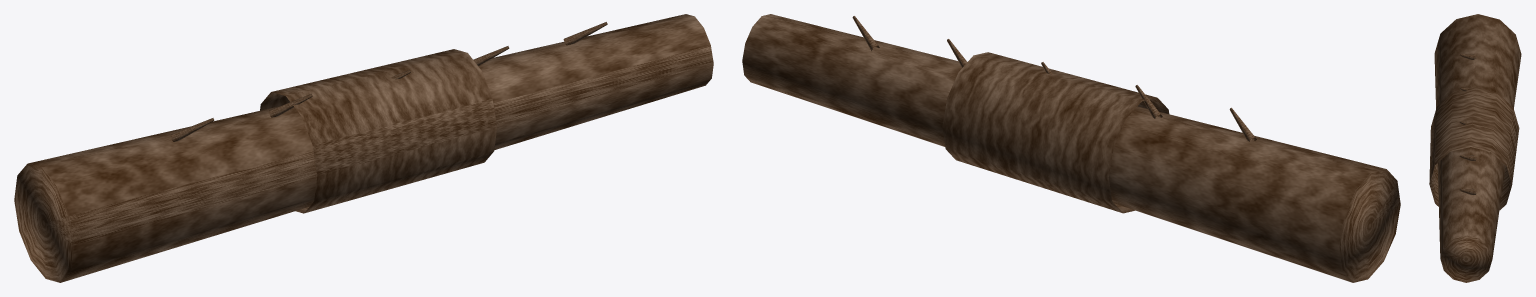
File: fallen-log.obj
The picture shows the model from 3 angles, left to right: view 1: azimuth 30°, elevation 25°; view 2: azimuth 150°, elevation 25°; view 3: azimuth 270°, elevation 25°; orthographic projection. The views are drawn at different scales.
Visible parts, largest first — view 1: fallen-log; view 2: fallen-log; view 3: fallen-log.
Boxes of the visible parts, x1,y1,x2,y2 form: fallen-log: (14, 14, 713, 282); fallen-log: (742, 14, 1400, 282); fallen-log: (1429, 14, 1521, 282).
Bounding box in the file's own units: 3.62 × 0.7066 × 0.6348.
Materials: 3 (3 with a texture image).
